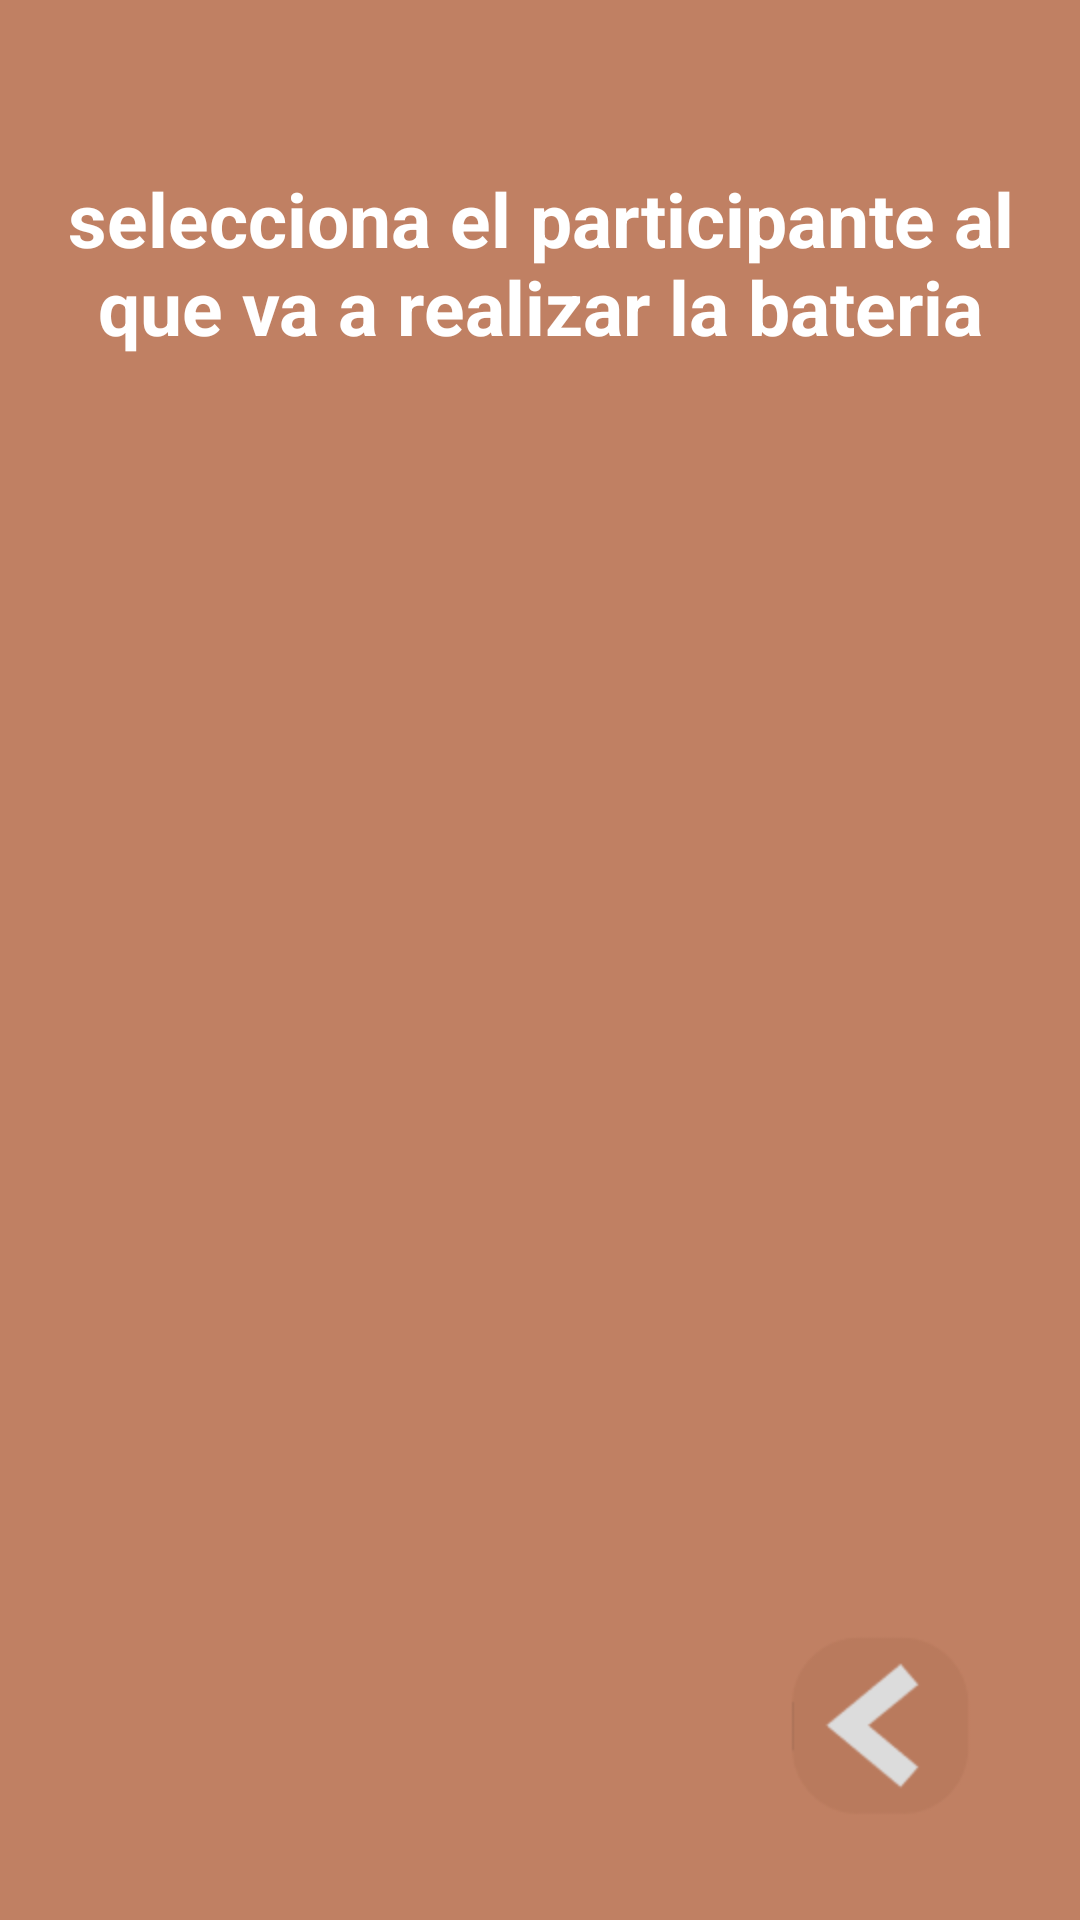

Screen size 1080×1920. Icon name, then its box in pixels as (x1, y1, x2, y2):
regresar: (827, 1664, 918, 1787)
